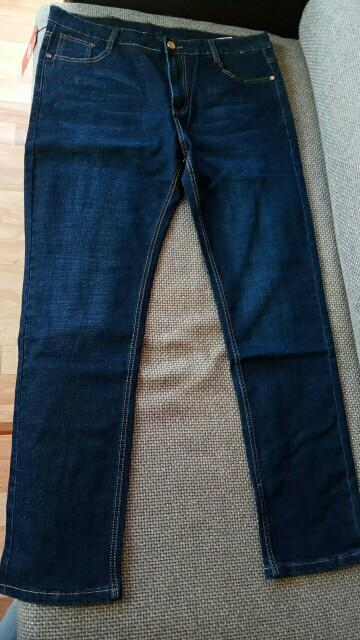jeans: (3, 4, 360, 585)
